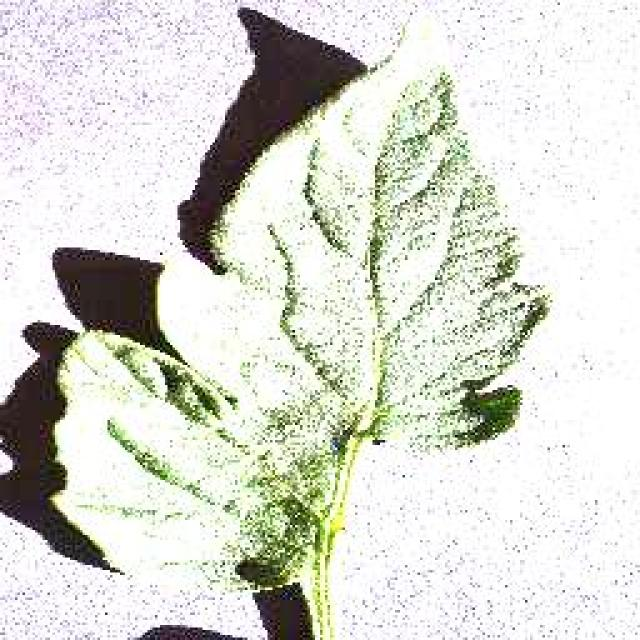Tomato___healthy: (49, 0, 558, 638)
